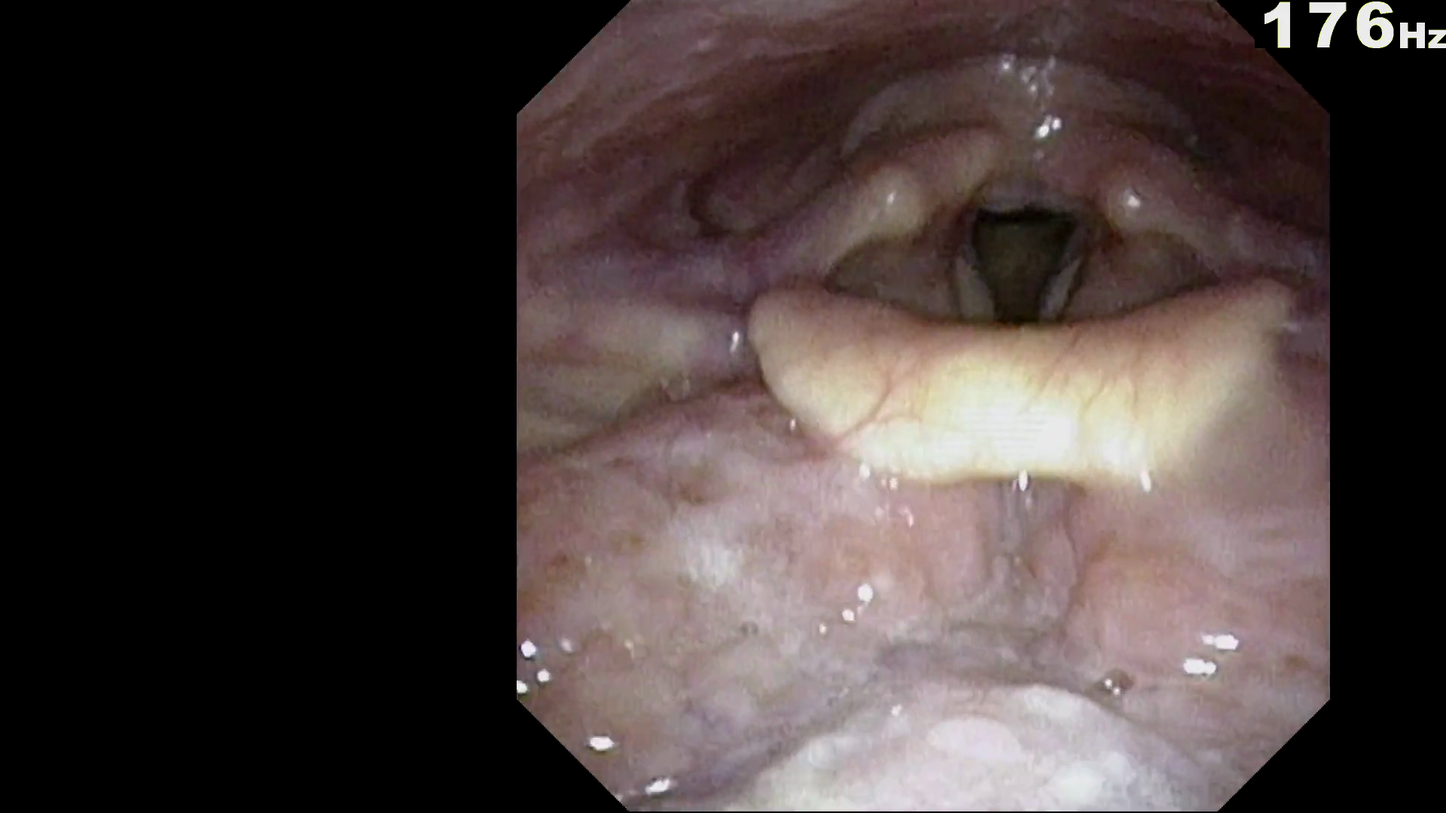epiglottis: (727, 221, 1315, 505)
trachea: (952, 190, 1099, 344)
